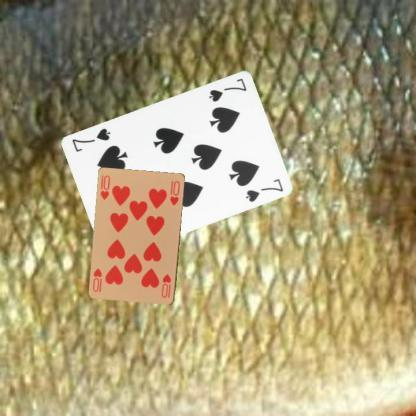10h: (98, 172, 112, 202), (158, 272, 172, 299)
7s: (206, 75, 248, 103)
